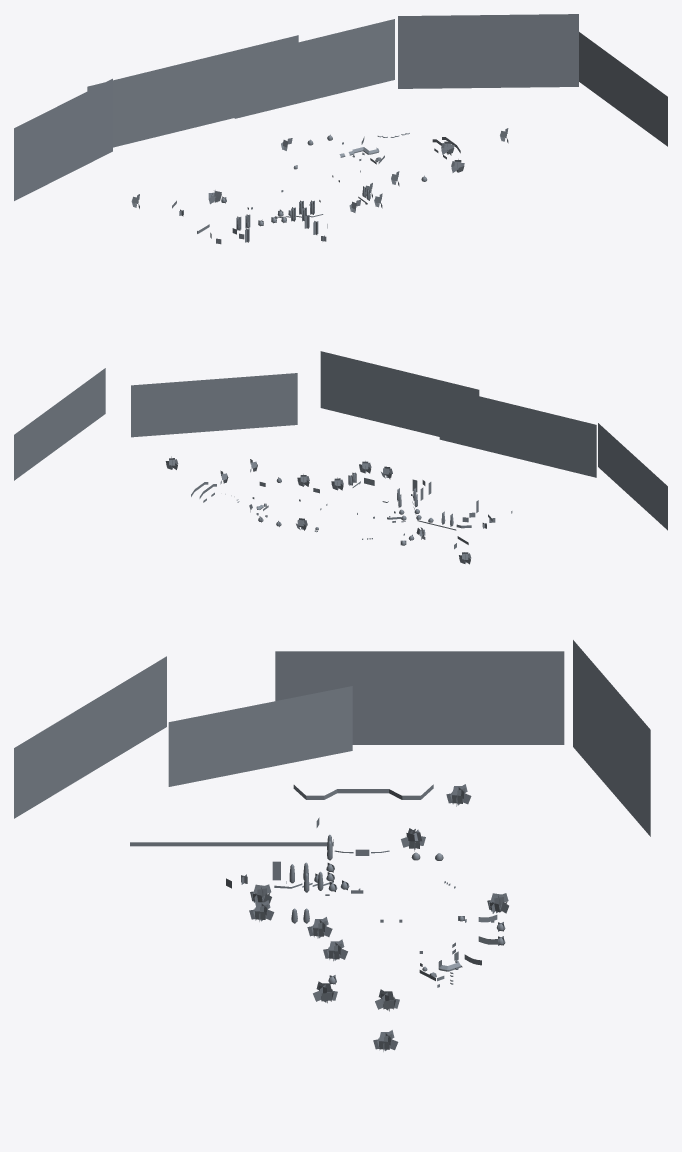
File: gltf__Models__map__Village__waterPark__waterPark_mergedAlpha01.glb
3 views of the same model, one above another, from view 1: azimuth 30°, elevation 25°; view 2: azimuth 150°, elevation 25°; view 3: azimuth 270°, elevation 25° (orthographic). The views are drawn at different scales.
Visible parts, largest first — view 1: waterPark_mergedAlpha_lv01; view 2: waterPark_mergedAlpha_lv01; view 3: waterPark_mergedAlpha_lv01.
Boxes of the visible parts, x1,y1,x2,y2 form: waterPark_mergedAlpha_lv01: (14, 14, 667, 244); waterPark_mergedAlpha_lv01: (14, 351, 667, 564); waterPark_mergedAlpha_lv01: (14, 640, 650, 1051).
Size of the model in its own units: 85.79 by 11.32 by 56.72.
Materials: 1 (1 with a texture image).
